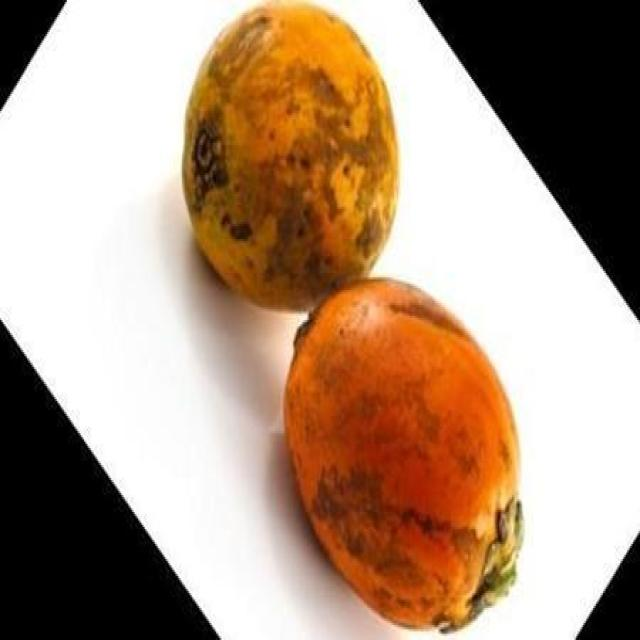good: (283, 279, 526, 634), (181, 2, 401, 316)
